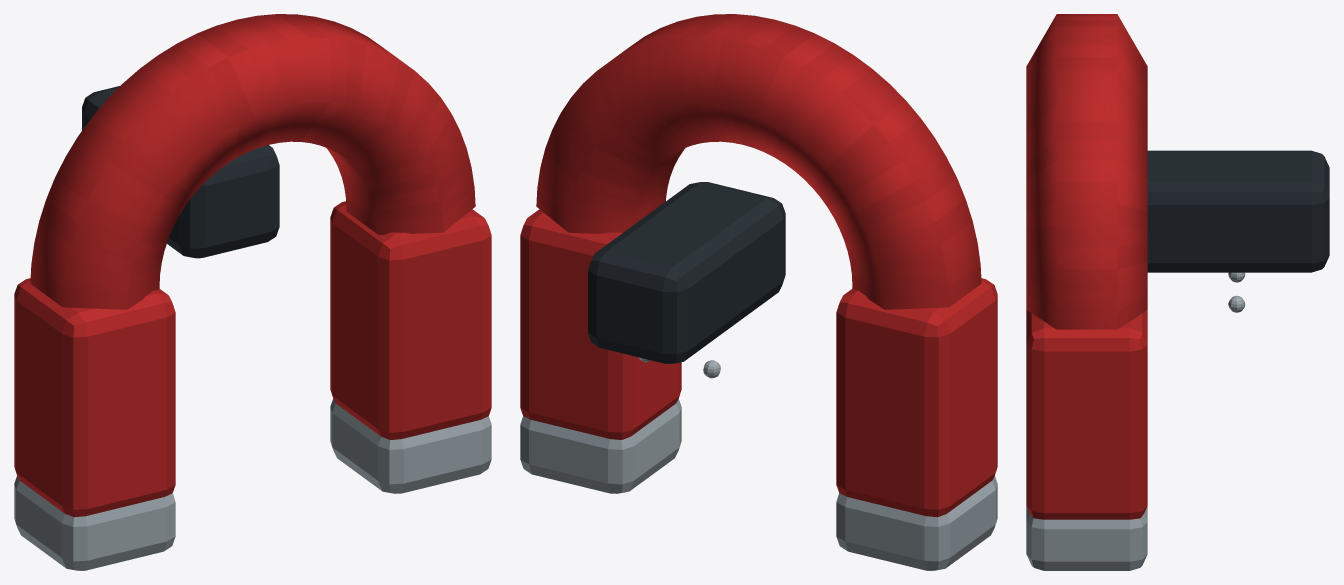
File: food-magnet.glb
3 views of the same model, side by side, from view 1: azimuth 30°, elevation 25°; view 2: azimuth 150°, elevation 25°; view 3: azimuth 270°, elevation 25° (orthographic). The views are drawn at different scales.
Parts seen in each view (by area): view 1: horseshoe; view 2: horseshoe; view 3: horseshoe.
Part boxes in pixels (x1,y1,x2,y2): horseshoe: (14, 14, 491, 570); horseshoe: (520, 14, 997, 570); horseshoe: (1026, 14, 1329, 570).
Bounding box in the file's own units: 0.65 × 0.6886 × 0.425.
